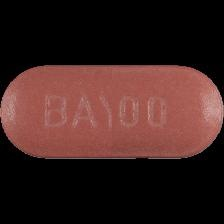49999-455: (0, 0, 224, 224)
